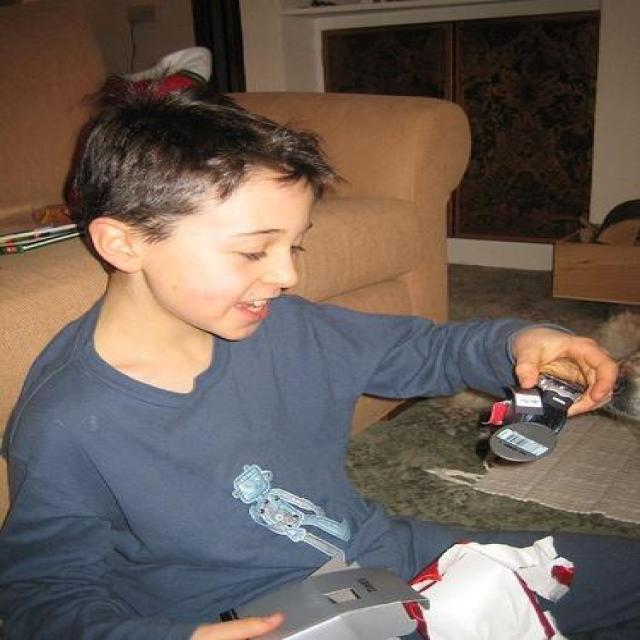No_Gloves: (486, 323, 640, 432)
